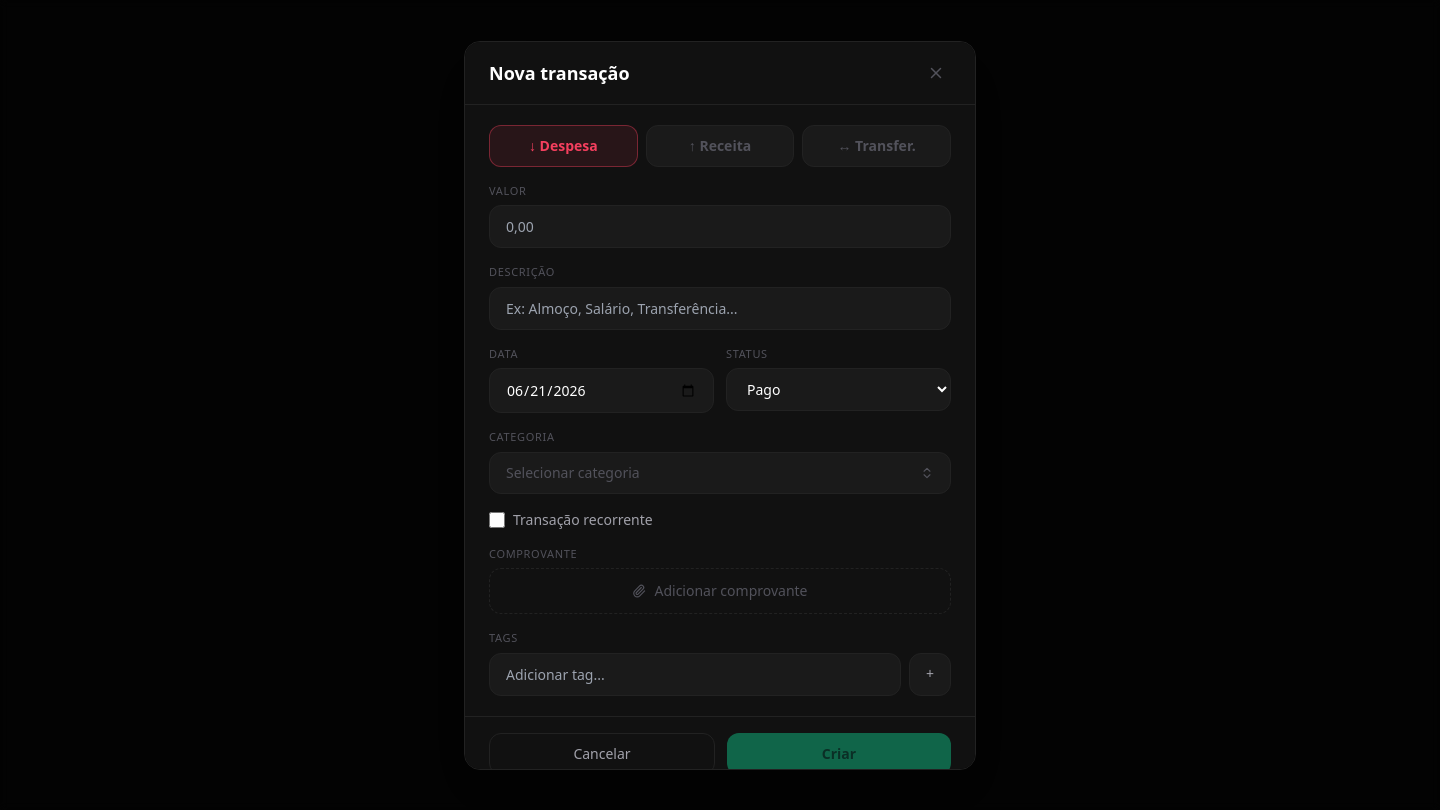
Test case: TransactionForm › deve adicionar tag ao pressionar Enter
Type "alimentação" into the field with placeholder "Adicionar tag...".
click(695, 674); type("alimentação")  # box left=489, top=652, right=901, bottom=696
Then press Enter
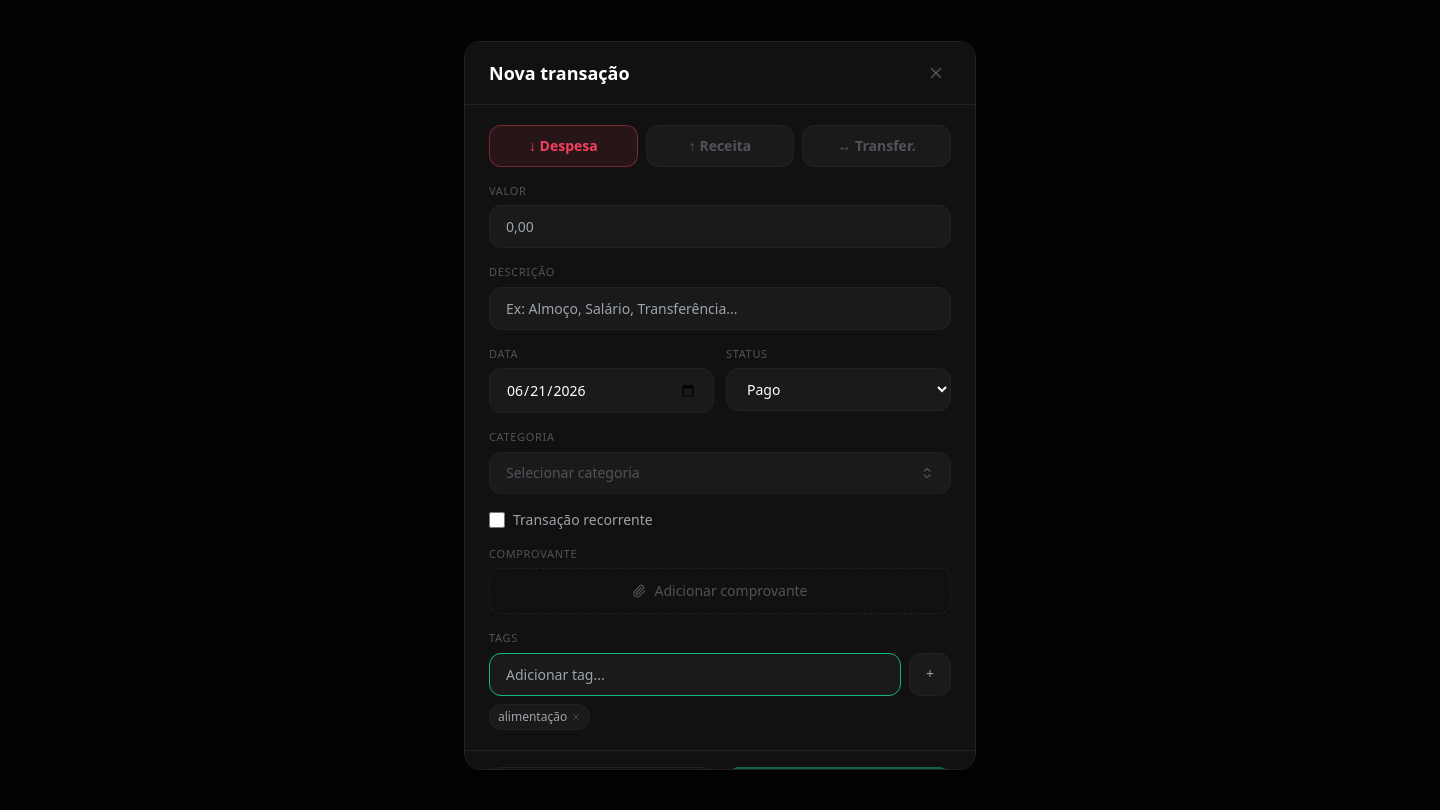
Now the text "alimentação" is shown, box left=489, top=704, right=590, bottom=730
